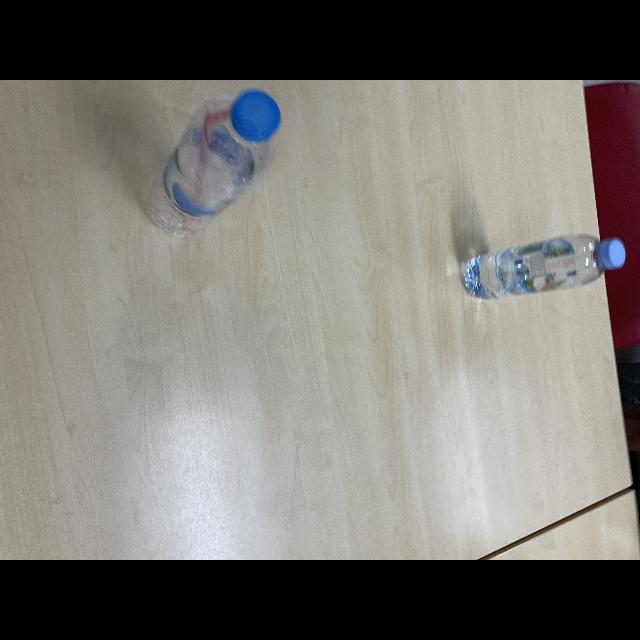plastic_bottle: (146, 88, 284, 242), (462, 232, 628, 298)
plastic_bottle_cap: (231, 88, 279, 142), (601, 237, 625, 271)
